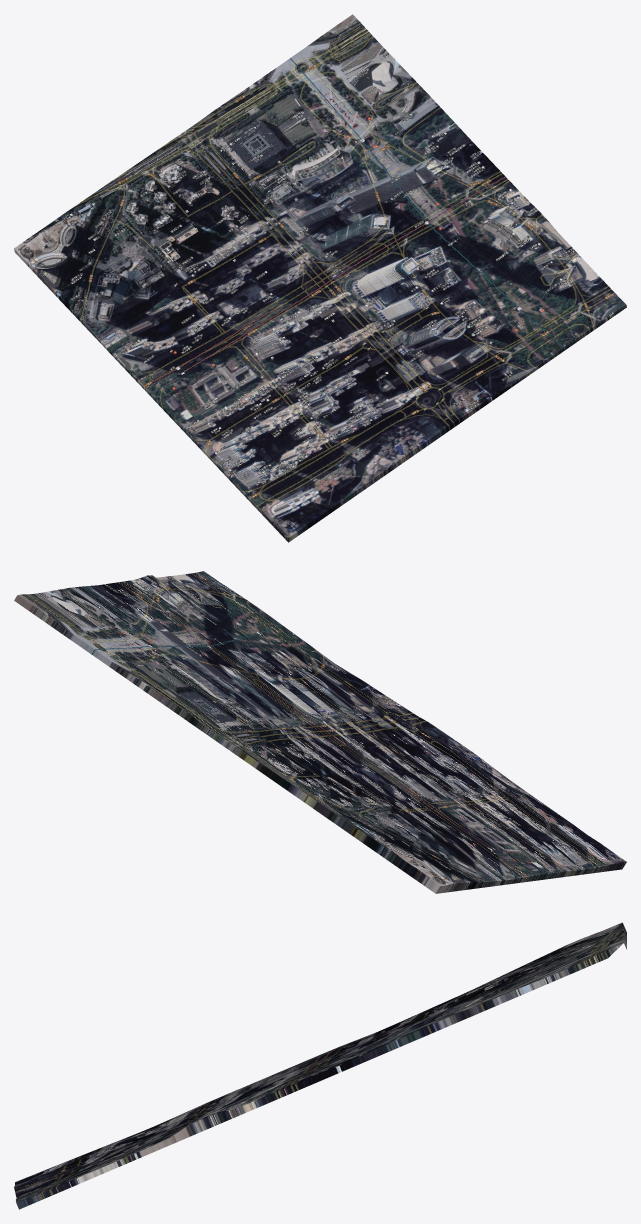
3 renders of one model, top to bottom at view 1: azimuth 30°, elevation 25°; view 2: azimuth 150°, elevation 25°; view 3: azimuth 270°, elevation 25°, orthographic. The views are drawn at different scales.
Visible parts, largest first — view 1: 1_5_11; view 2: 1_5_11; view 3: 1_5_11.
Boxes of the visible parts, <box> form: 1_5_11: <box>14,14,626,542</box>; 1_5_11: <box>14,571,626,893</box>; 1_5_11: <box>14,922,626,1209</box>.
Bounding box in the file's own units: 1230 × 896 × 1128.
Materials: 1 (1 with a texture image).
